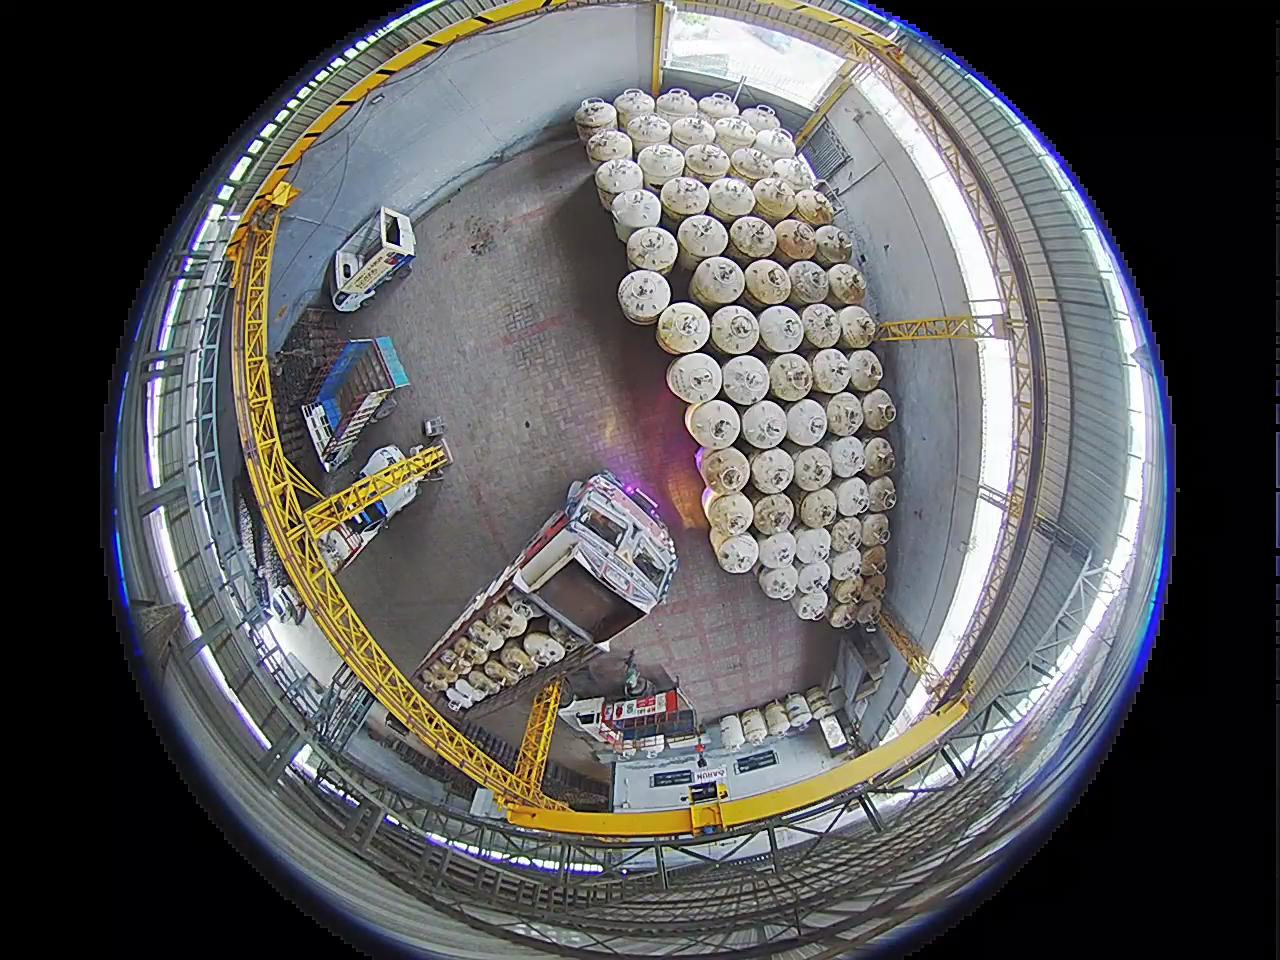cylinder: (590, 184, 671, 264), (646, 345, 745, 408), (690, 256, 746, 326), (620, 263, 679, 327), (656, 301, 710, 352), (710, 305, 762, 355), (740, 399, 790, 450), (564, 93, 618, 140), (698, 446, 750, 494), (676, 213, 729, 260), (690, 404, 753, 444), (757, 306, 806, 354), (744, 258, 794, 306), (614, 89, 674, 128), (749, 445, 796, 493), (659, 175, 710, 221), (595, 156, 644, 202), (709, 177, 755, 225), (767, 353, 813, 400), (637, 142, 686, 187), (751, 175, 798, 220), (785, 398, 829, 446), (706, 492, 754, 535), (585, 127, 632, 169), (730, 216, 775, 259), (810, 348, 854, 393), (790, 446, 834, 491), (625, 112, 673, 152), (787, 260, 830, 305), (800, 304, 843, 349), (774, 218, 819, 260), (752, 492, 795, 535), (823, 391, 865, 437), (837, 305, 878, 350), (827, 434, 868, 479), (715, 533, 760, 574), (826, 262, 868, 306), (798, 487, 840, 530), (685, 143, 730, 184), (655, 87, 699, 127), (713, 115, 758, 153), (730, 145, 775, 184), (814, 225, 855, 267), (831, 475, 871, 517), (847, 348, 885, 391), (792, 526, 833, 567), (793, 188, 836, 226), (753, 127, 797, 163), (757, 531, 798, 570), (769, 157, 811, 195), (861, 387, 898, 430), (671, 114, 715, 150), (757, 564, 797, 600), (696, 92, 739, 126), (862, 436, 897, 476), (828, 515, 864, 554), (740, 104, 780, 137), (791, 586, 827, 621), (500, 642, 537, 677), (865, 475, 898, 512), (795, 560, 829, 595), (828, 548, 863, 582), (860, 512, 892, 548), (468, 619, 503, 651), (827, 599, 860, 630), (438, 647, 473, 677), (785, 692, 813, 726), (483, 659, 517, 688), (830, 576, 862, 606), (859, 545, 888, 577), (806, 686, 835, 719), (422, 665, 455, 693), (468, 672, 501, 699), (499, 609, 529, 637), (859, 572, 887, 600), (856, 599, 883, 626), (508, 596, 536, 622), (450, 637, 477, 662), (701, 485, 720, 518)
truck: (411, 472, 677, 767), (296, 337, 409, 475), (311, 449, 432, 576), (560, 662, 702, 750), (330, 204, 418, 314)
